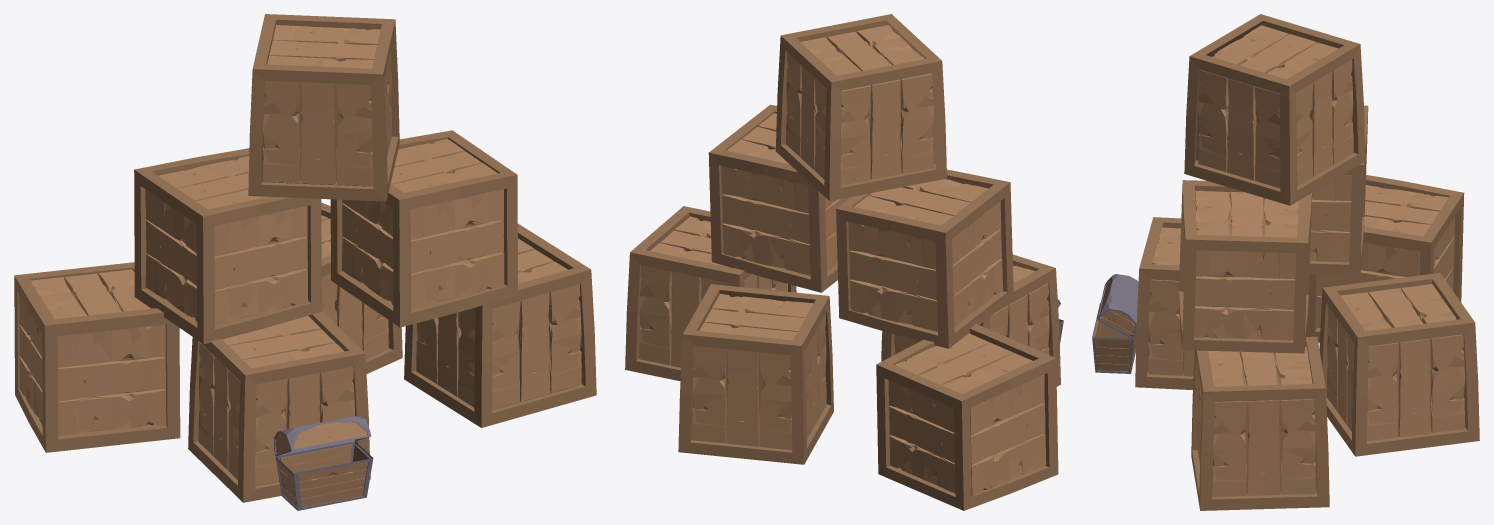
File: BOXES.fbx
3 views of the same model, side by side, from view 1: azimuth 30°, elevation 25°; view 2: azimuth 150°, elevation 25°; view 3: azimuth 270°, elevation 25° (orthographic). The views are drawn at different scales.
Parts seen in each view (by area): view 1: Cube.055; view 2: Cube.055; view 3: Cube.055.
Part boxes in pixels (left/top/right/bottom): Cube.055: left=14, top=14, right=596, bottom=510; Cube.055: left=625, top=14, right=1063, bottom=510; Cube.055: left=1092, top=14, right=1479, bottom=510.
Bounding box in the file's own units: 594 × 450 × 446.
